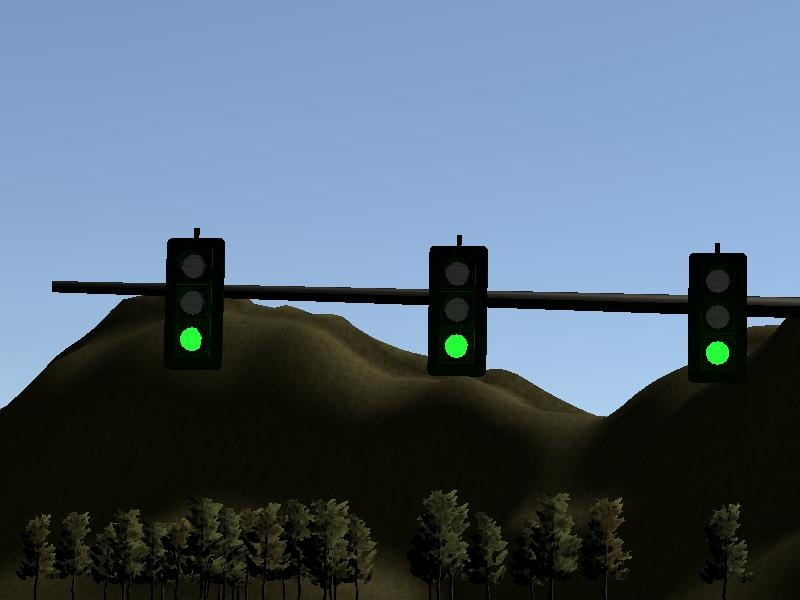GREEN: (684, 249, 751, 406), (421, 240, 490, 384), (159, 233, 230, 365)
